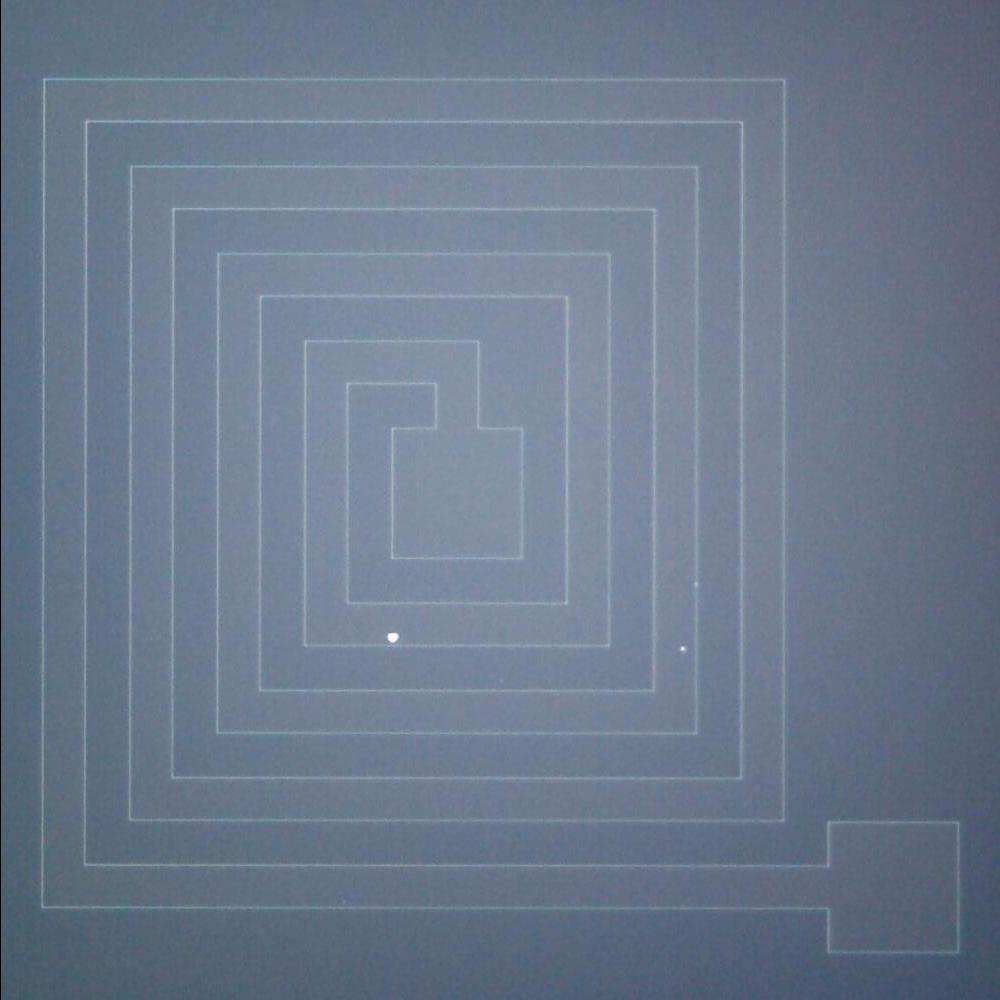dot: (666, 632, 696, 662)
spot: (379, 622, 410, 650)
